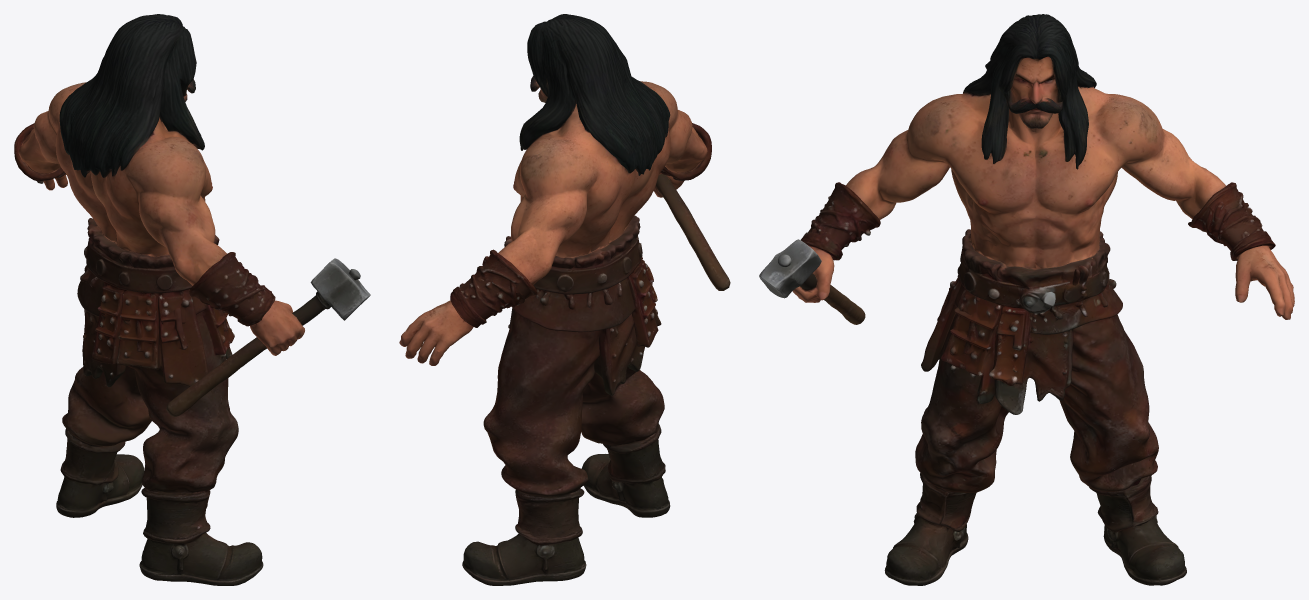
3 views of the same model, side by side, from view 1: azimuth 30°, elevation 25°; view 2: azimuth 150°, elevation 25°; view 3: azimuth 270°, elevation 25° (orthographic). The views are drawn at different scales.
Parts seen in each view (by area): view 1: tripo_node_64f27909-26db-4c46-b2fb-01e136710838; view 2: tripo_node_64f27909-26db-4c46-b2fb-01e136710838; view 3: tripo_node_64f27909-26db-4c46-b2fb-01e136710838.
Part boxes in pixels (x1,y1,x2,y2): tripo_node_64f27909-26db-4c46-b2fb-01e136710838: (14,14,370,585); tripo_node_64f27909-26db-4c46-b2fb-01e136710838: (399,14,730,585); tripo_node_64f27909-26db-4c46-b2fb-01e136710838: (759,14,1294,585).
Bounding box in the file's own units: 0.3424 × 1 × 0.8882.
Materials: 1 (1 with a texture image).
